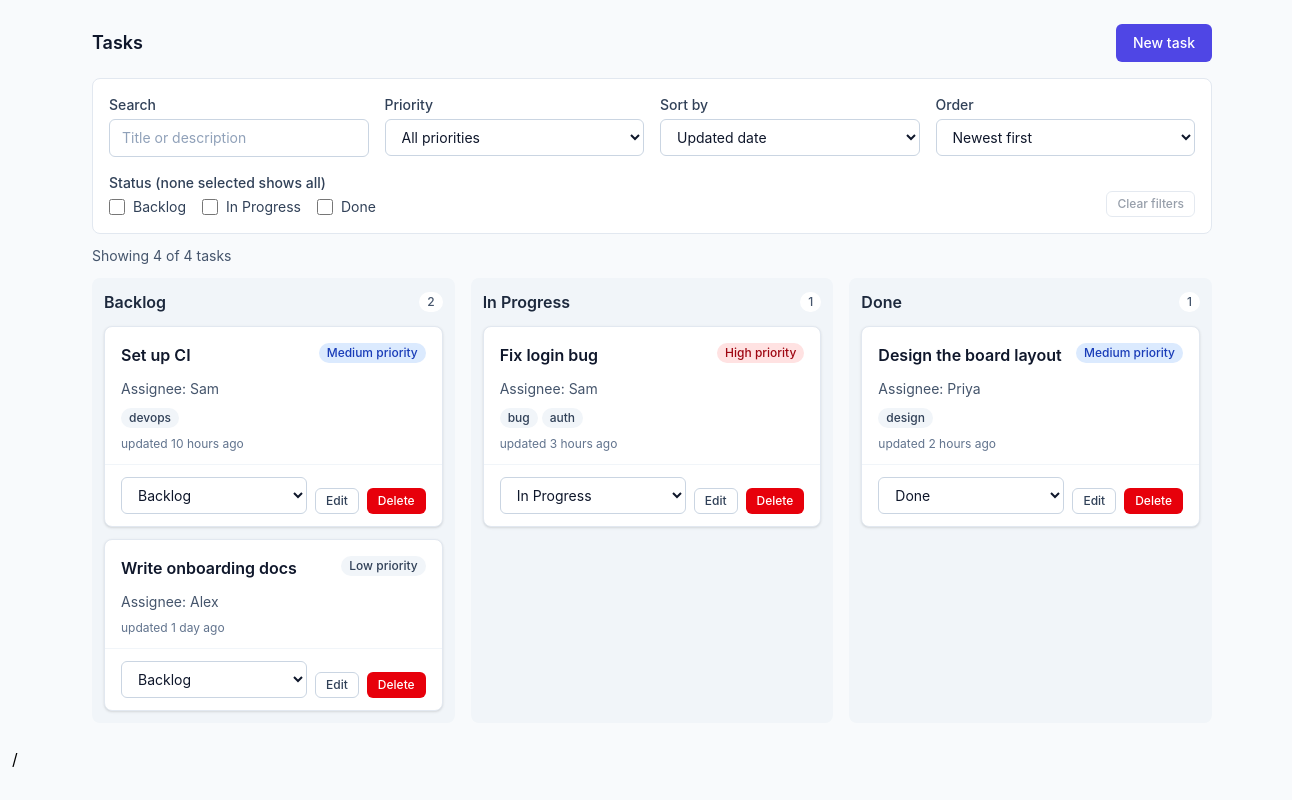
Scenario: filtering and sorting › filters by priority and writes the choice to the URL
Select "High" in the dropdown labelled "Priority" at x=514, y=138, box [384,119,644,156]
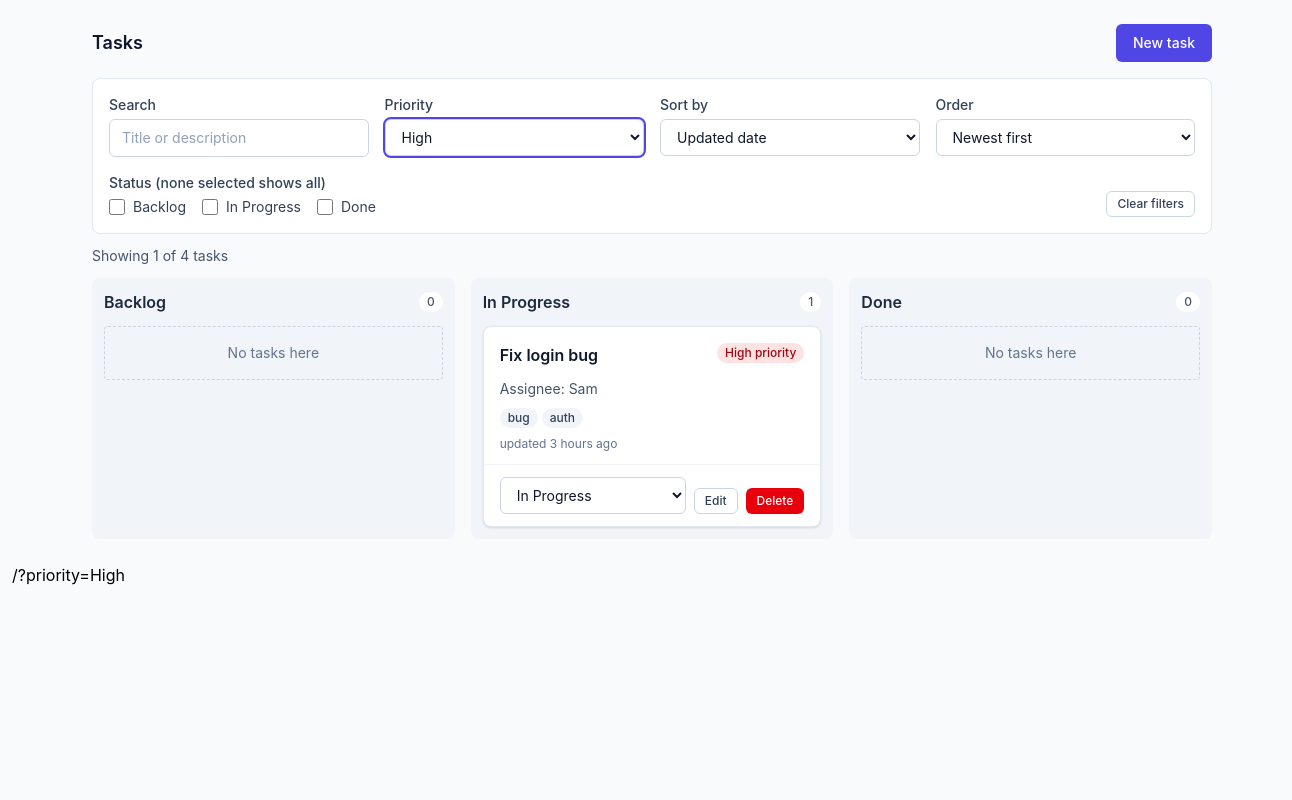
Now the heading "Write onboarding docs" is gone
Now the heading "Set up CI" is gone
Now the text "Showing 1 of 4 tasks" is shown, box [92,247,228,264]
